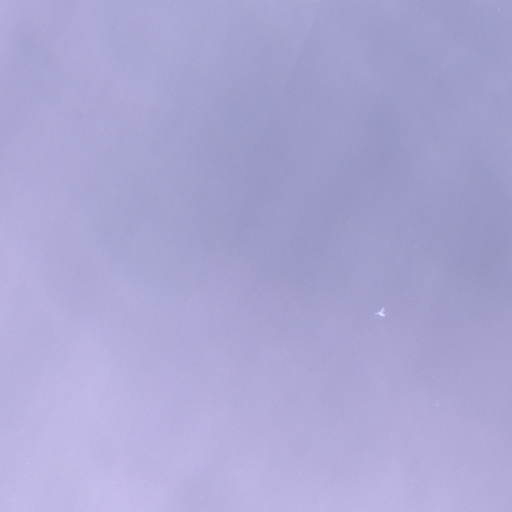Iceberg: (375, 308, 384, 315)
